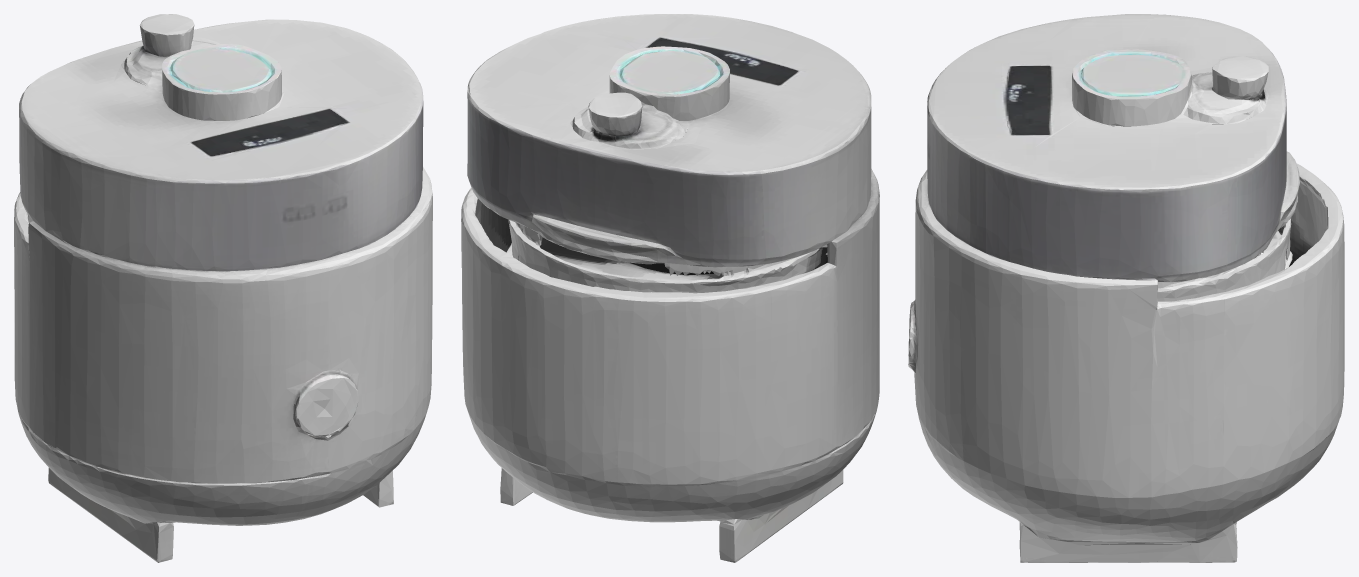
The model's file is 2060f834-b27c-4bfc-bbe2-0a7691e0b0d0.glb.
The picture shows the model from 3 angles, left to right: view 1: azimuth 30°, elevation 25°; view 2: azimuth 150°, elevation 25°; view 3: azimuth 270°, elevation 25°; orthographic projection.
Visible parts, largest first — view 1: world; view 2: world; view 3: world.
Boxes of the visible parts, box(x1,y1,x2,y2) form: world: box(14, 14, 432, 562); world: box(461, 14, 879, 562); world: box(908, 14, 1344, 562).
Size of the model in its own units: 0.4737 by 0.5402 by 0.4867.
1 material, 1 textured.
